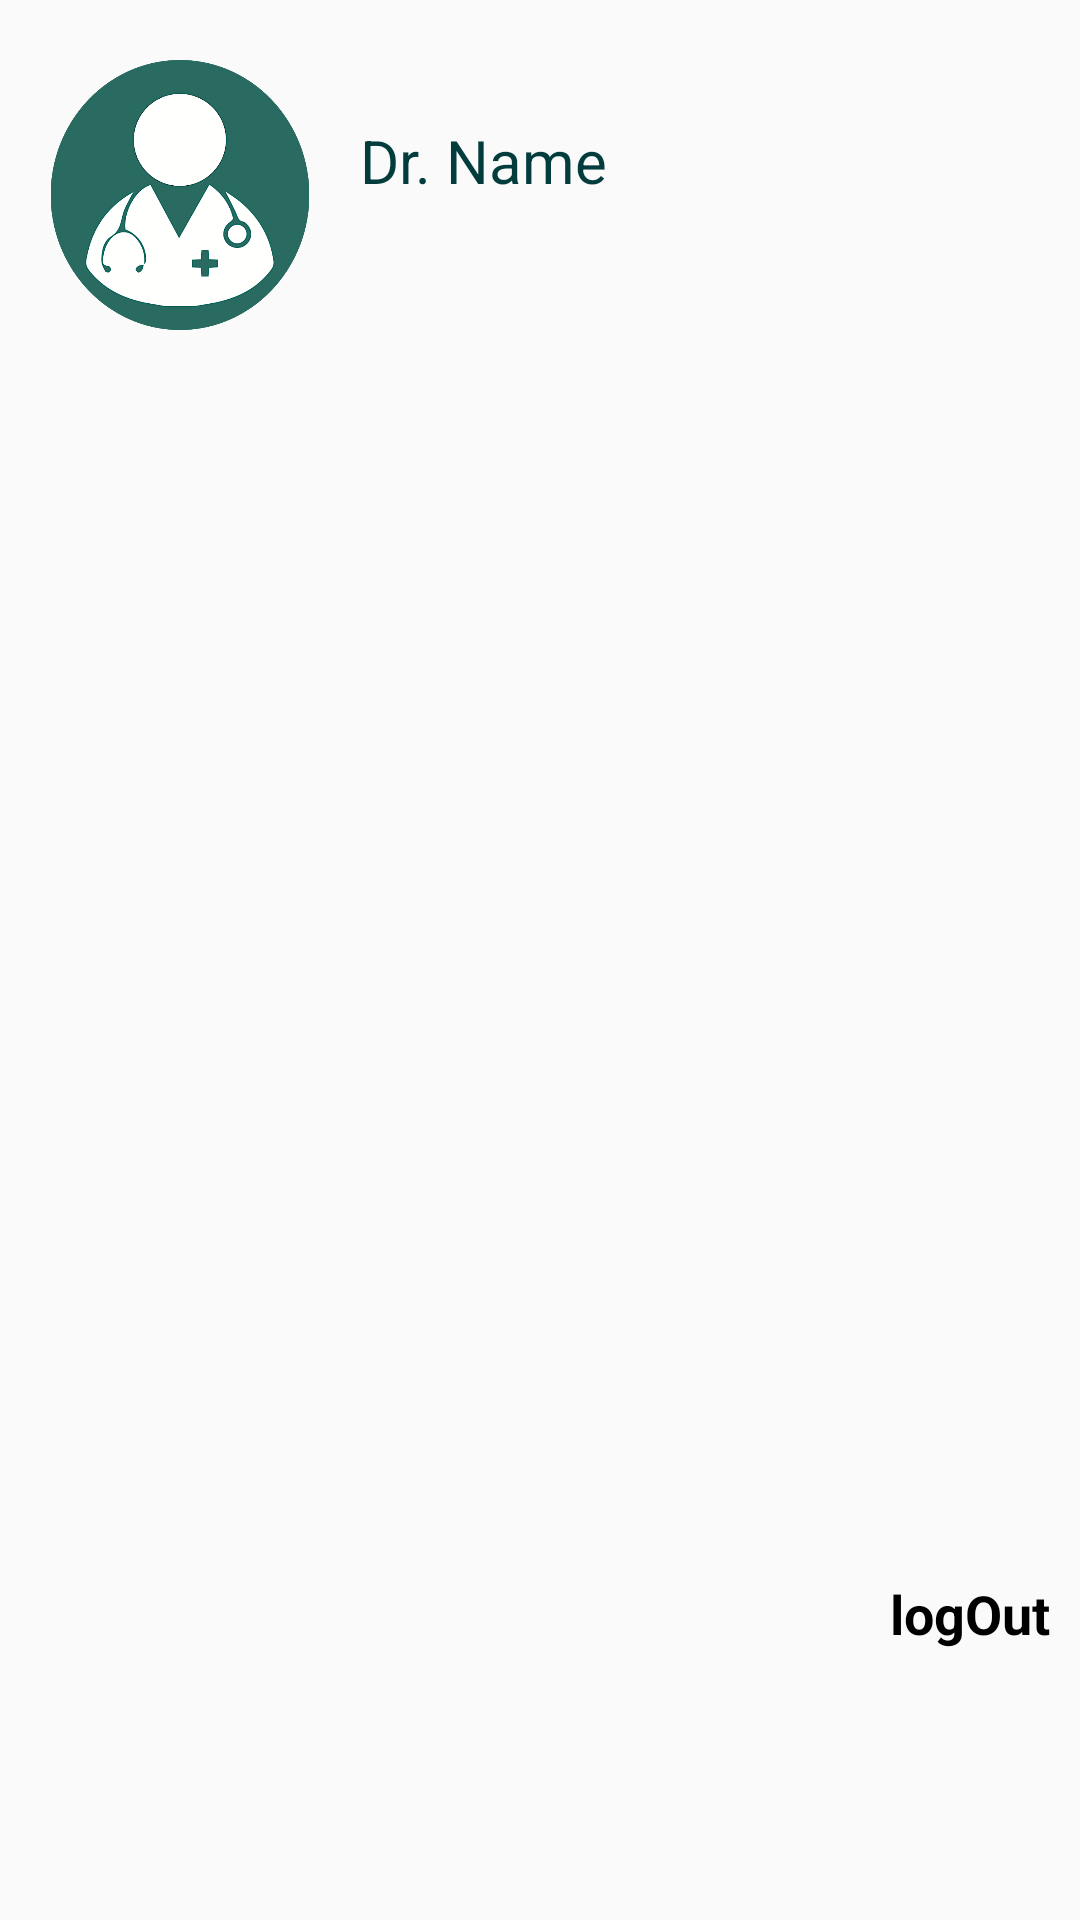

Where to tap for icons on this 1080px×1920px app screen, as (x,y):
doctor login: (180,195)
